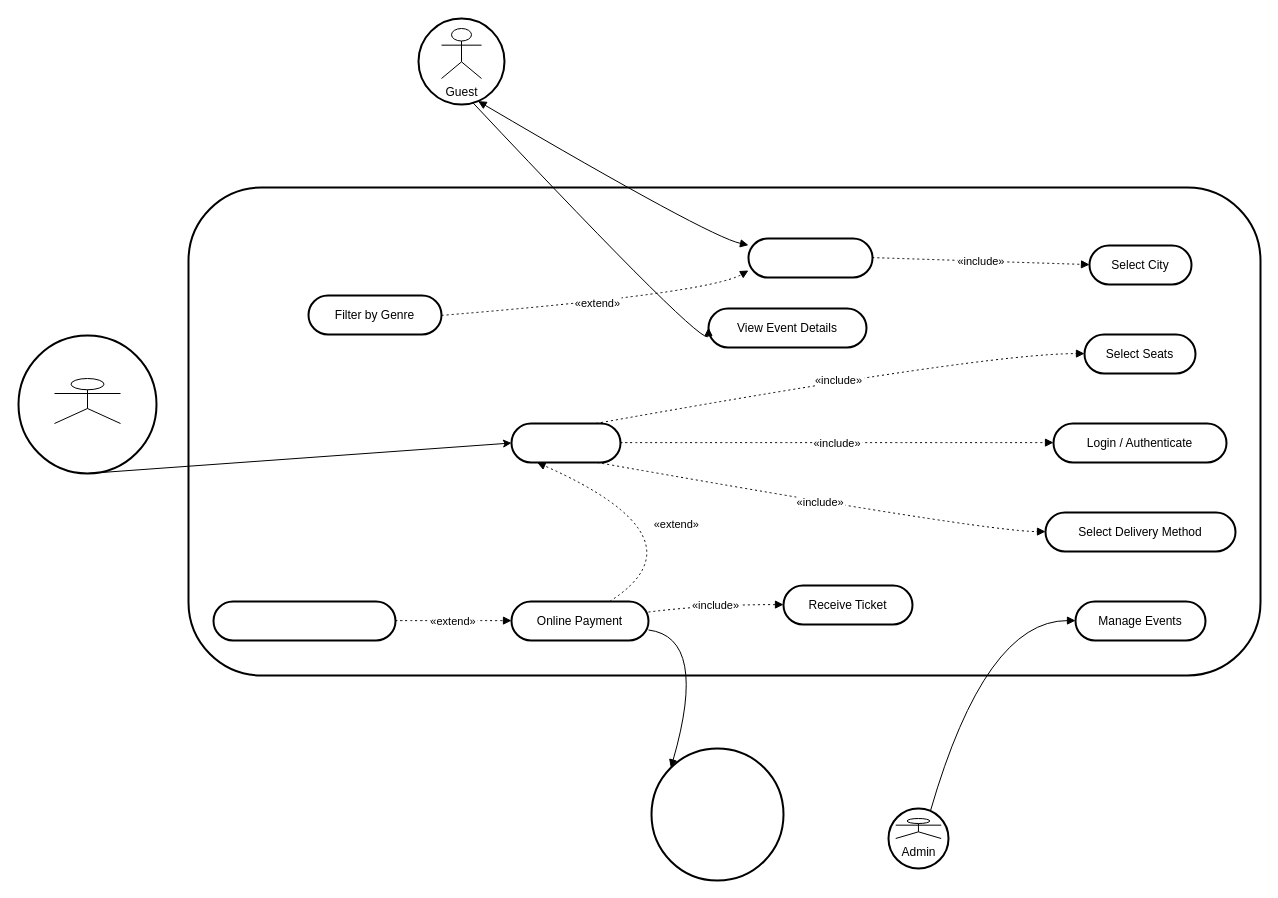
Some shapes in this 1278 by 898 pixel diagram are drawn without their labels. The shapes that lost their labels are listed below. From the top down, each one's box as (x1, y1, x2, y2) in pixels, then its label:
(747, 237, 873, 278): Search Events
(54, 378, 120, 424): Registered Client
(510, 422, 621, 463): Place Order
(187, 186, 1261, 676): Tickets.ua System
(212, 600, 396, 641): Handle Payment Error
(650, 747, 784, 881): Payment System
